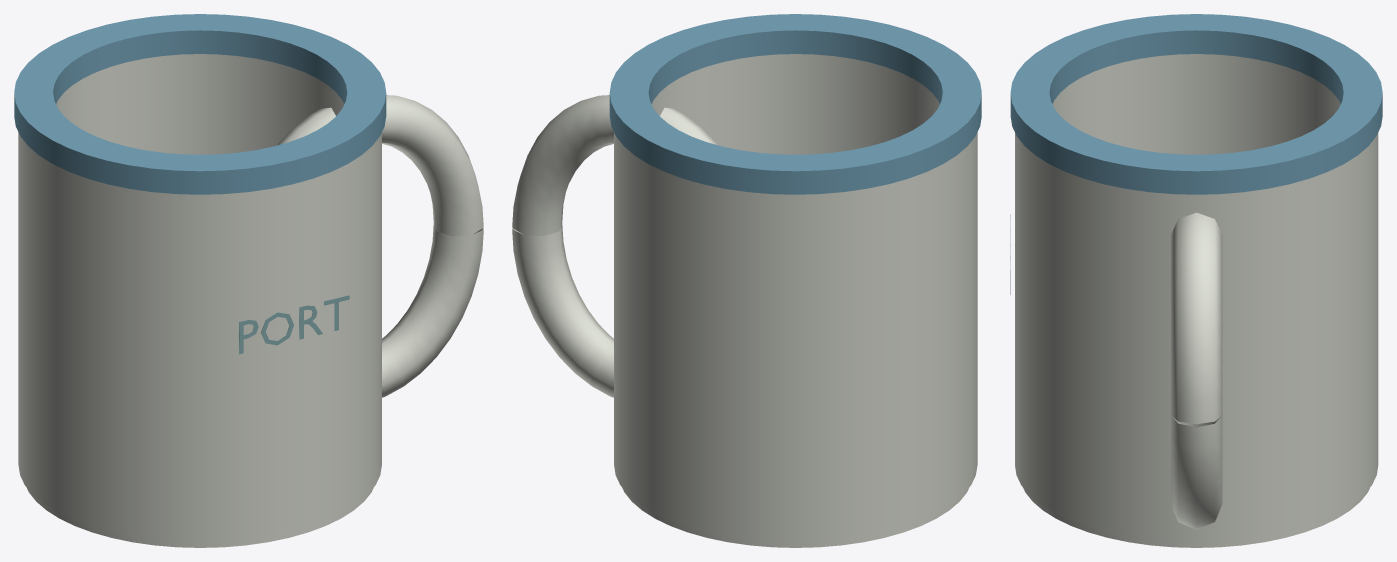
Rendered from loot_mug.glb.
The picture shows the model from 3 angles, left to right: view 1: azimuth 30°, elevation 25°; view 2: azimuth 150°, elevation 25°; view 3: azimuth 270°, elevation 25°; orthographic projection.
Parts seen in each view (by area): view 1: loot_mug; view 2: loot_mug; view 3: loot_mug.
Part boxes in pixels (x1,y1,x2,y2): loot_mug: (14, 14, 483, 547); loot_mug: (512, 14, 981, 547); loot_mug: (1010, 14, 1382, 547).
Bounding box in the file's own units: 0.118 × 0.097 × 0.0861.
